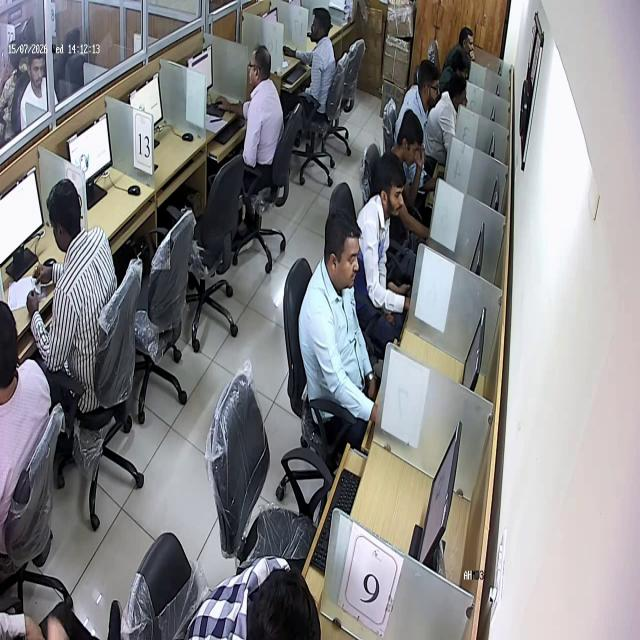paper-chit: (30, 276, 41, 294)
